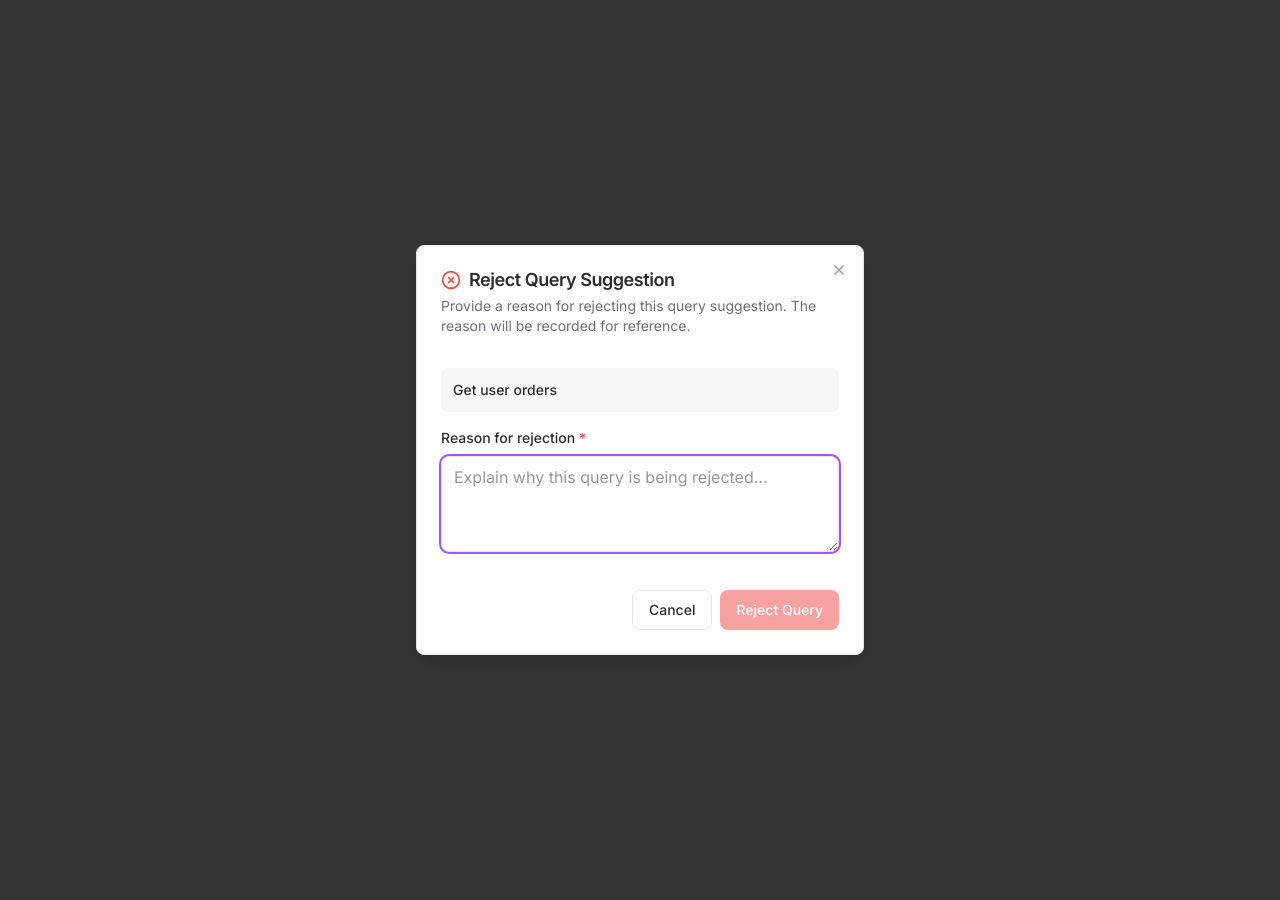
RejectionReasonDialog › displays error message on rejection failure
This screenshot has width=1280, height=900.
In the text box with placeholder "Explain why this query is being rejected...": (640, 504) [441,456,839,552], type "Invalid SQL"
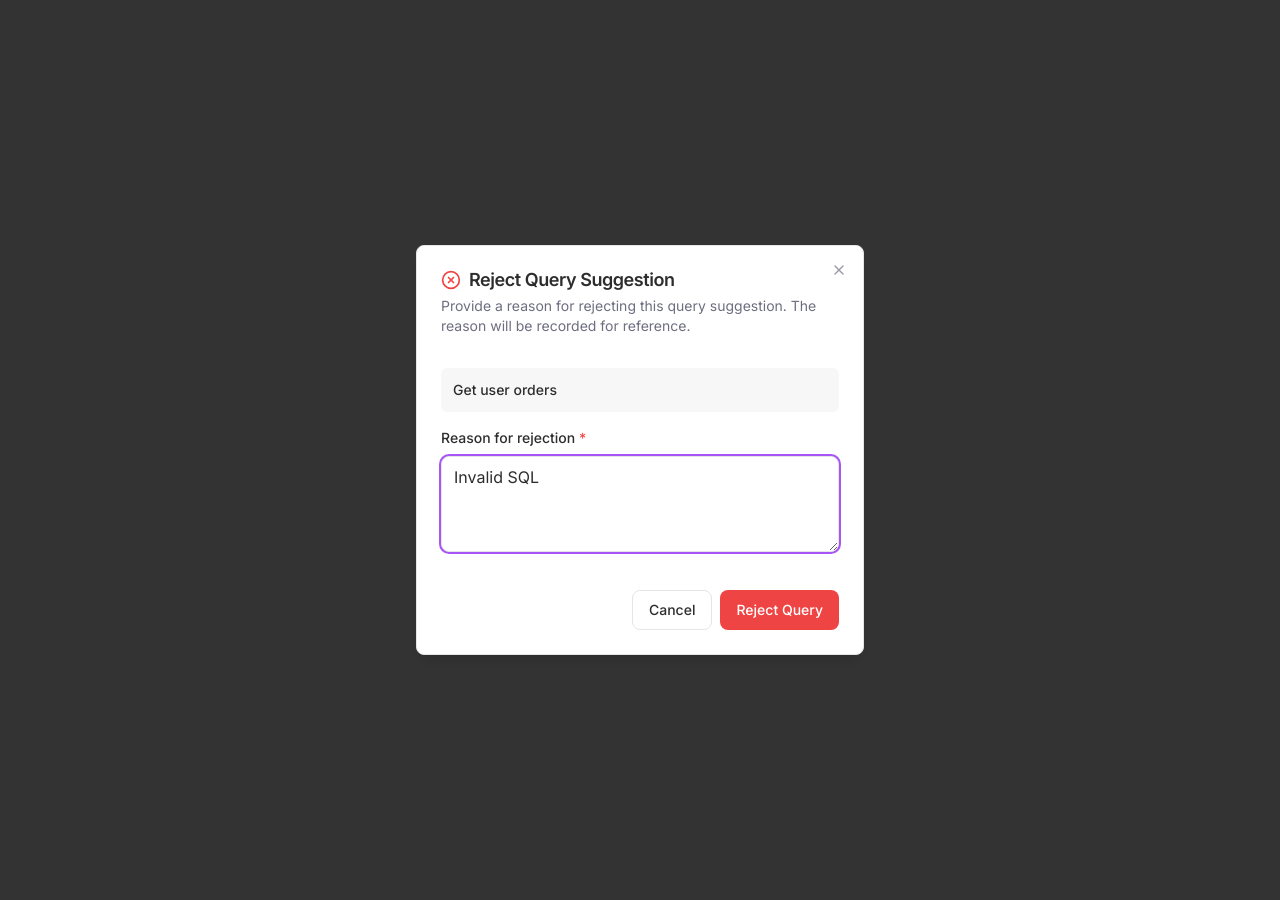
Click the button "Reject Query": click(780, 610) [720,590,839,630]
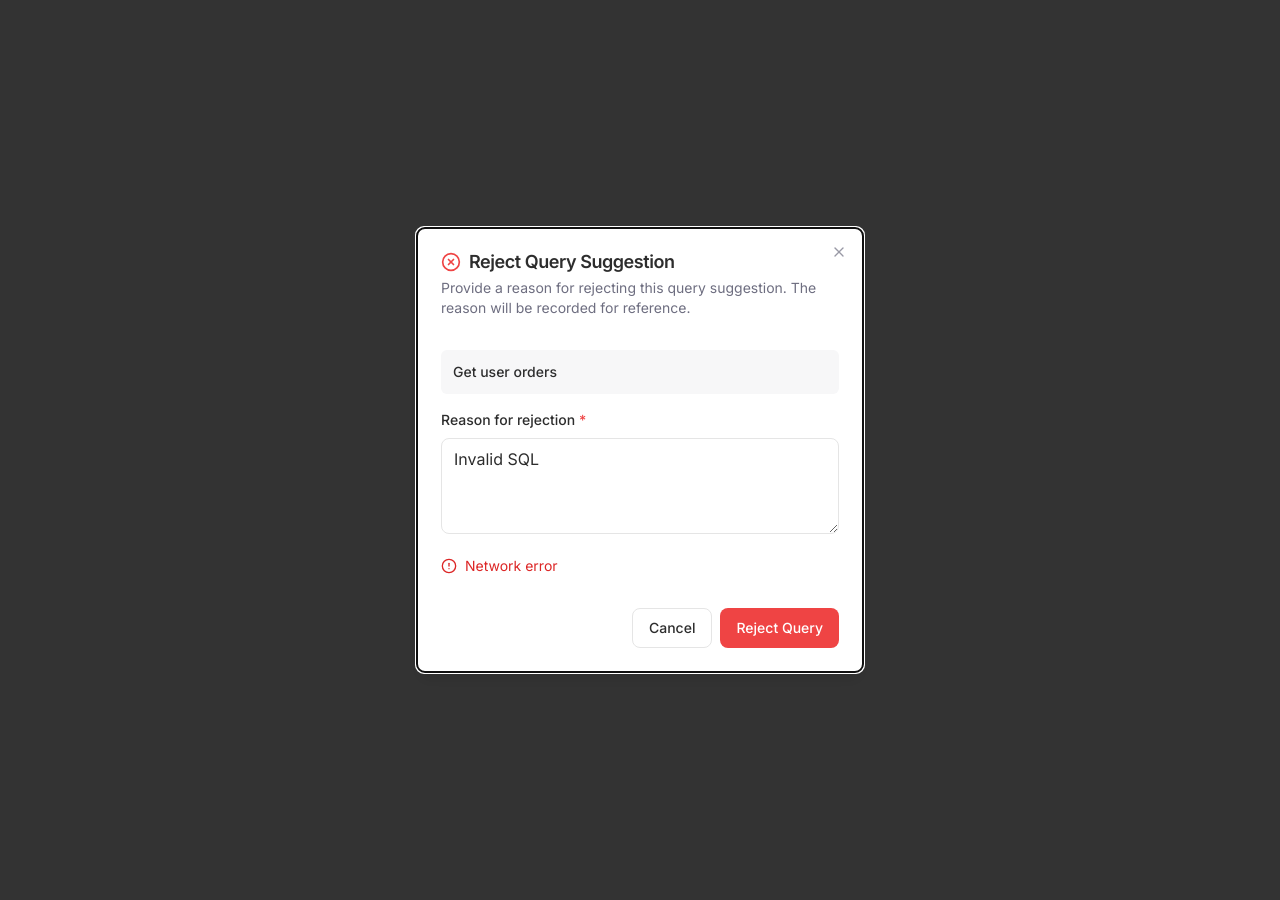
Result: the text "Network error" is shown at [441,557,558,574]
